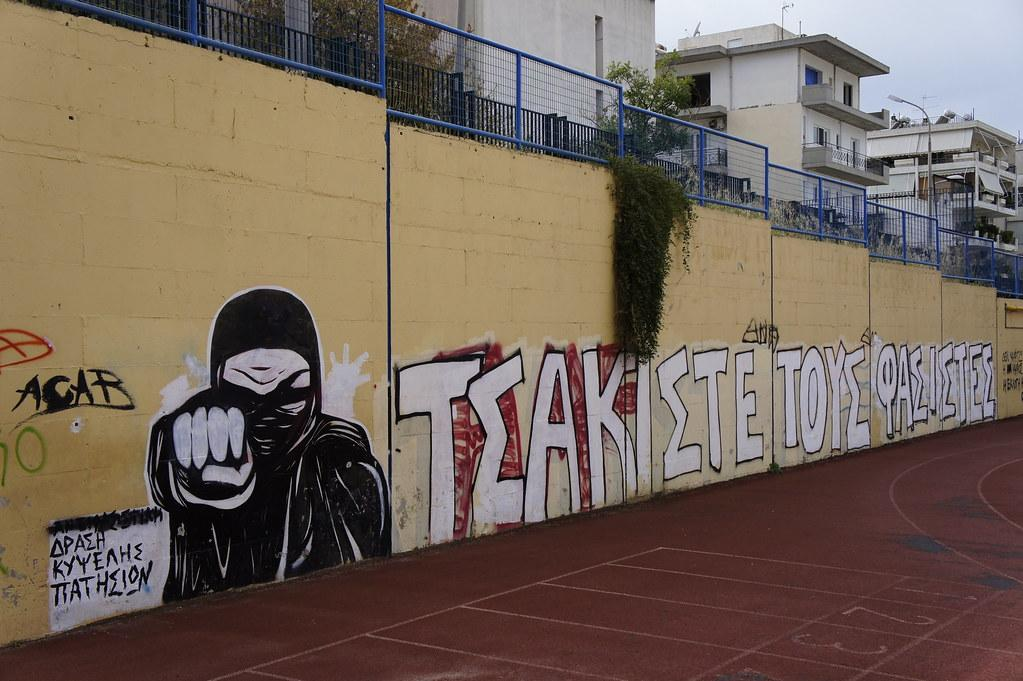graffiti: (147, 288, 390, 597), (396, 344, 768, 535), (774, 336, 996, 456), (47, 508, 169, 630), (10, 367, 133, 472), (0, 328, 54, 374), (743, 319, 779, 351), (1000, 348, 1022, 395)
